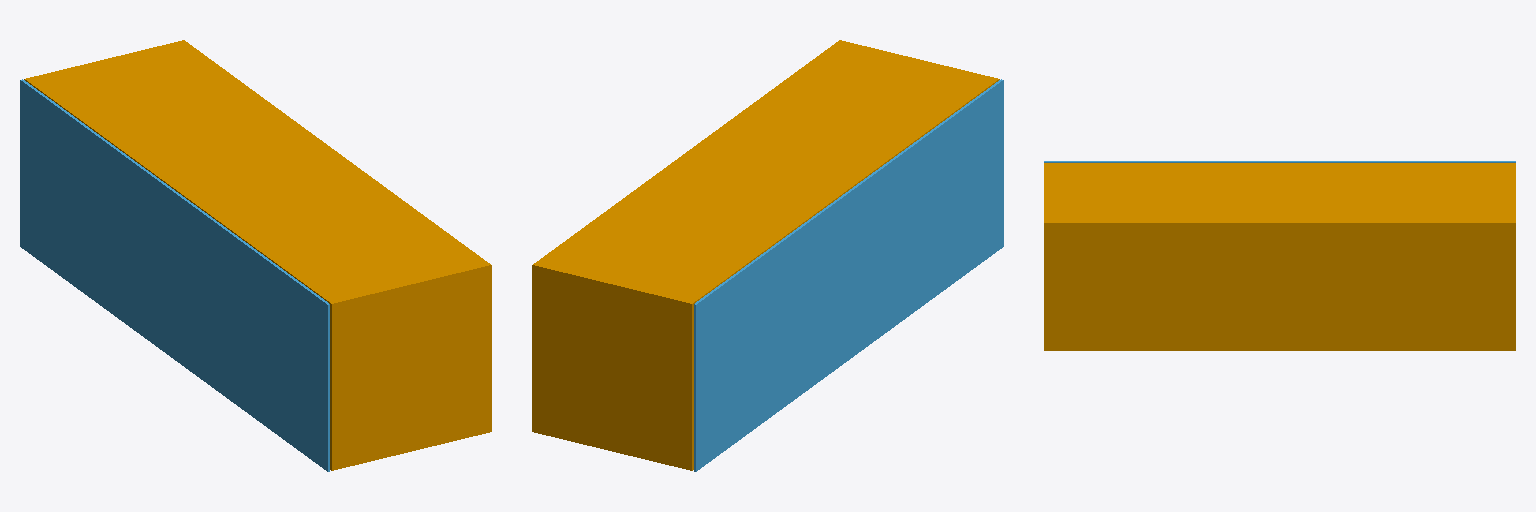
The robot description file, URDF, robot "kitchen":
<robot name="kitchen">

  <link name="kitchen_top">

    <inertial>
      <mass value="70.0" />
      <origin xyz="0 0 0" />
      <inertia  ixx="0.0" ixy="0.0"  ixz="0.0"  iyy="0.0"  iyz="0.0"  izz="0.0" />
    </inertial>
    
    <visual>
      <origin xyz="0.6 0 0.3" rpy="0 0 0" />
      <geometry>
	<box size="0.6 2 0.6" />
      </geometry>
    </visual>

    <collision>
      <origin xyz="0.6 0 0.3" rpy="0 0 0" />
      <geometry>
        <box size="0.6 2 0.6" />
     </geometry>
    </collision>

  </link>
  
<gazebo reference="kitchen_top">
    <material>Custom/kitchen_top</material>	
    <static>true</static>
    <turnGravityOff>true</turnGravityOff>
 </gazebo>

<joint name="kitchen_joint" type="fixed">
	<parent link="kitchen_top"/>
	<child link="kitchen_front"/>
</joint>

  <link name="kitchen_front">

    <inertial>
      <mass value="70.0" />
      <origin xyz="0 0 0" />
      <inertia  ixx="0.0" ixy="0.0"  ixz="0.0"  iyy="0.0"  iyz="0.0"  izz="0.0" />
    </inertial>
    
    <visual>
      <origin xyz="0.29 0.0 0.3" rpy="0 0 -1.5708" />
      <geometry>
        <box size="2 0.01 0.6" />
      </geometry> 
     </visual>

    <collision>
      <origin xyz="0.29 0.0 0.3" rpy="0 0 -1.5708" />
      <geometry>
        <box size="2 0.01 0.6" />
      </geometry>
    </collision>

  </link>

<gazebo reference="kitchen_front">
    <material>Custom/kitchen_front</material>	
    <static>true</static>
    <turnGravityOff>true</turnGravityOff>
</gazebo>

  <gazebo>
    <static>true</static>
  </gazebo>

</robot>

--- What the picture shows (computed from the rendered views, not written in the file) ---
3 views of the same robot in one strip: view 1: azimuth 30°, elevation 25°; view 2: azimuth 150°, elevation 25°; view 3: azimuth 270°, elevation 25° (orthographic).
Model kitchen with 2 links and 1 joints (1 fixed), rooted at kitchen_top, posed all joints at 0.
Visible links, largest first — view 1: kitchen_top, kitchen_front; view 2: kitchen_top, kitchen_front; view 3: kitchen_top, kitchen_front.
Link boxes in pixels (x1,y1,x2,y2): kitchen_top: [24, 40, 491, 470]; kitchen_front: [20, 79, 329, 471]; kitchen_top: [532, 40, 999, 470]; kitchen_front: [694, 79, 1003, 471]; kitchen_top: [1044, 163, 1515, 350]; kitchen_front: [1044, 161, 1515, 162].
Bounding box of the posed robot: 0.615 × 2 × 0.6 m (x, y, z).
Geometry: primitives only (box / cylinder / sphere), no mesh files.